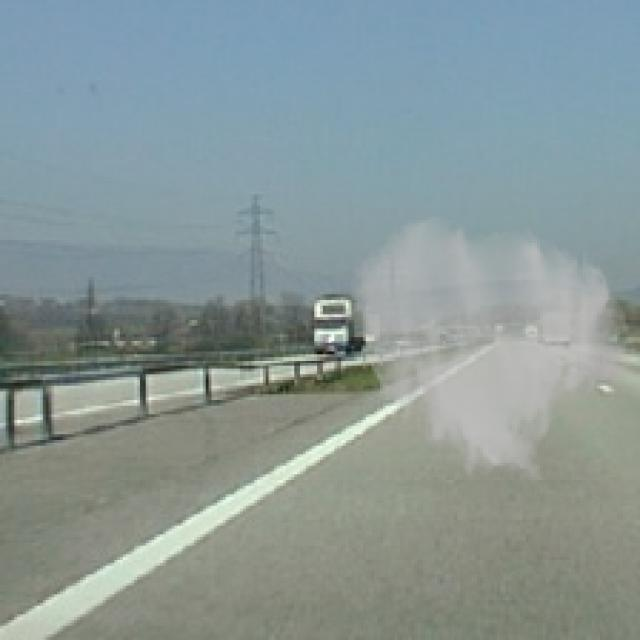smoke: (348, 214, 632, 486)
